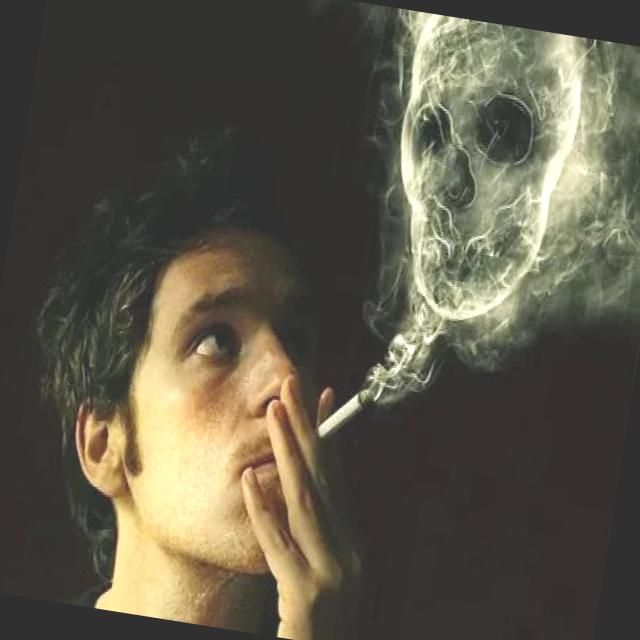cigarette: (306, 370, 381, 460)
